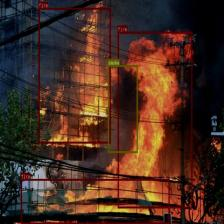fire: (118, 31, 192, 208), (38, 8, 110, 143), (20, 178, 170, 224)
smoke: (108, 64, 138, 152)
